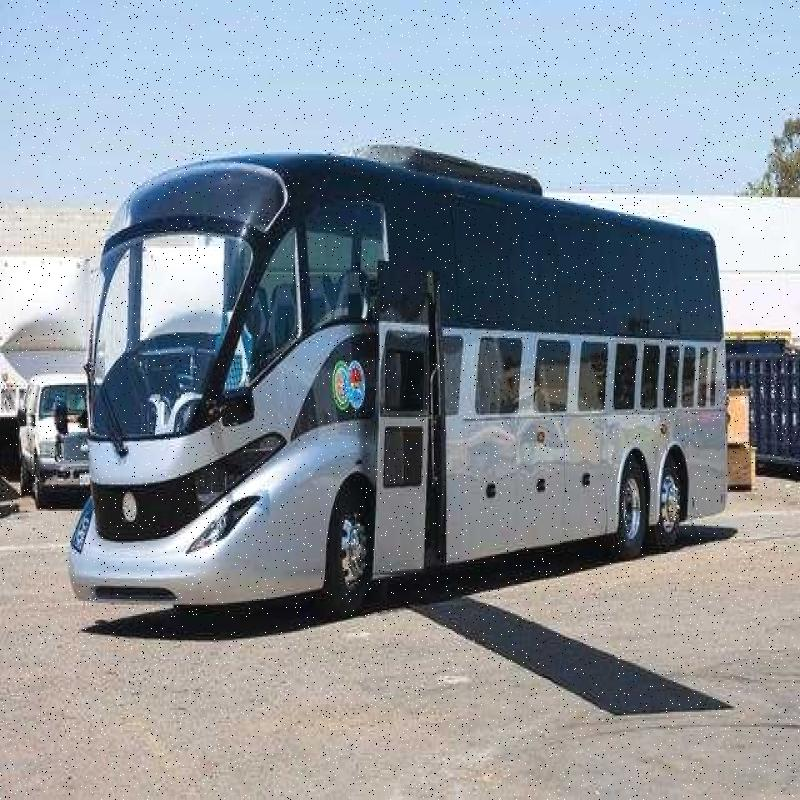bus: (83, 159, 719, 631)
